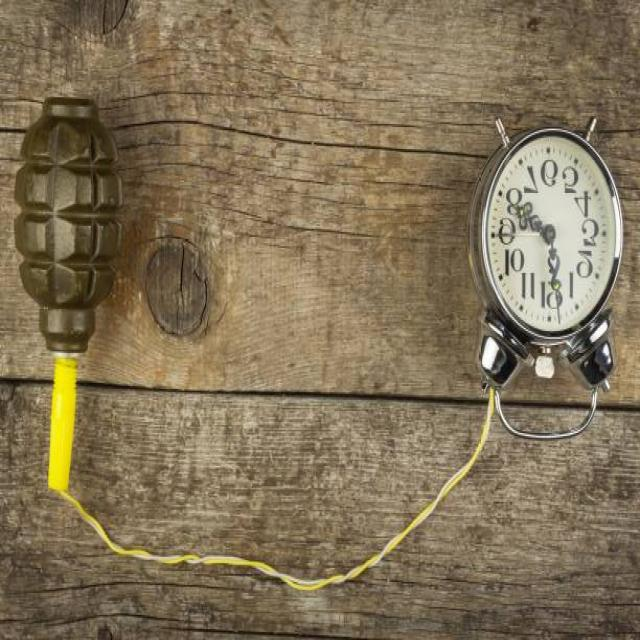grenade: (14, 90, 128, 363)
